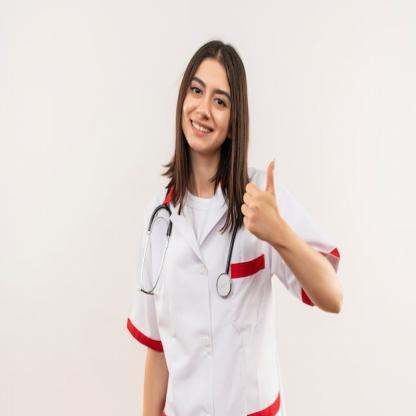thumb_up: (238, 156, 283, 245)
